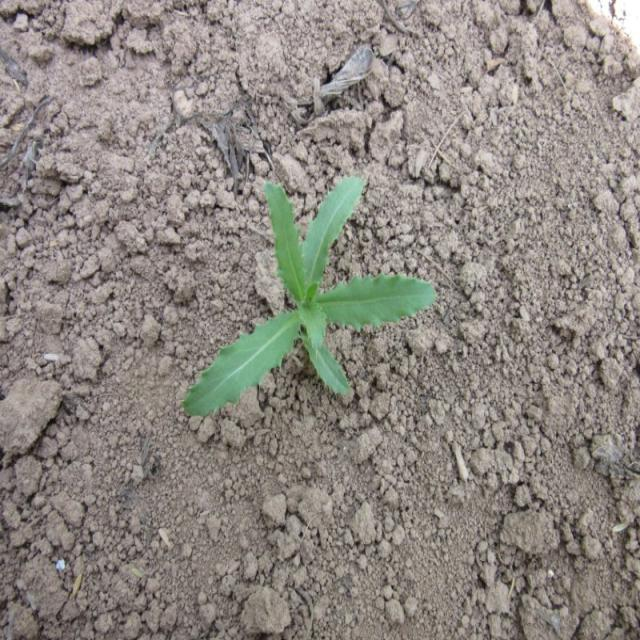field_thistle: (182, 170, 440, 392)
